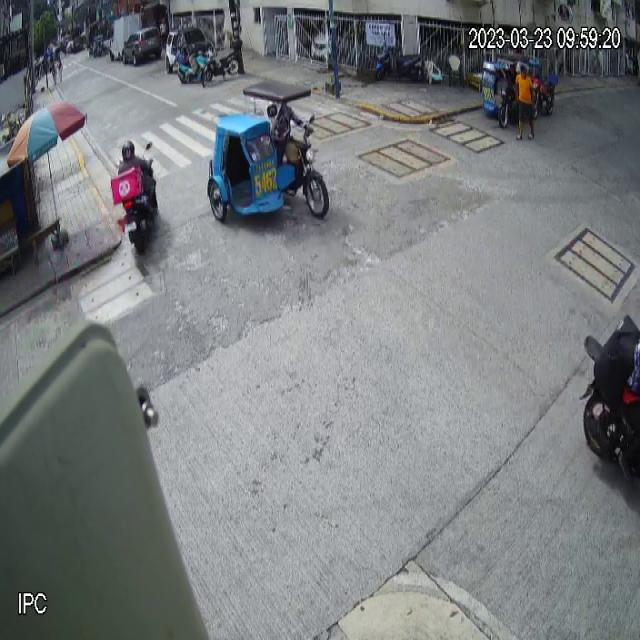Motorcycle: (109, 138, 159, 254)
Tricycle: (206, 79, 330, 225), (482, 54, 529, 130)
